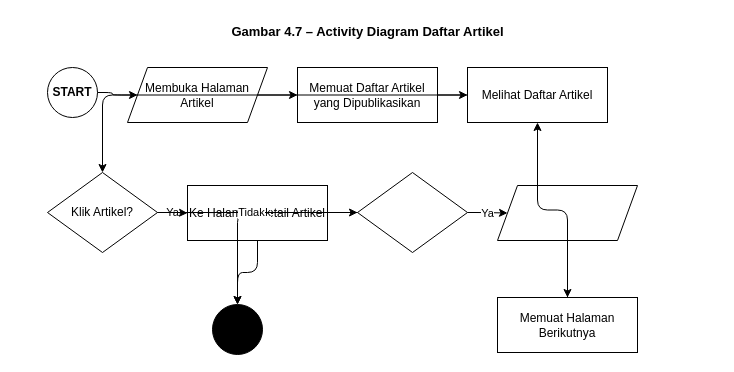
Image size: 734x372. Some labels were removed from this diagram. Here are the shapes that lost their labels. From the top down, the box of each, then its label:
(356, 172, 468, 252): Pindah Halaman?
(496, 184, 638, 240): Klik Pagination
(212, 304, 262, 354): END
